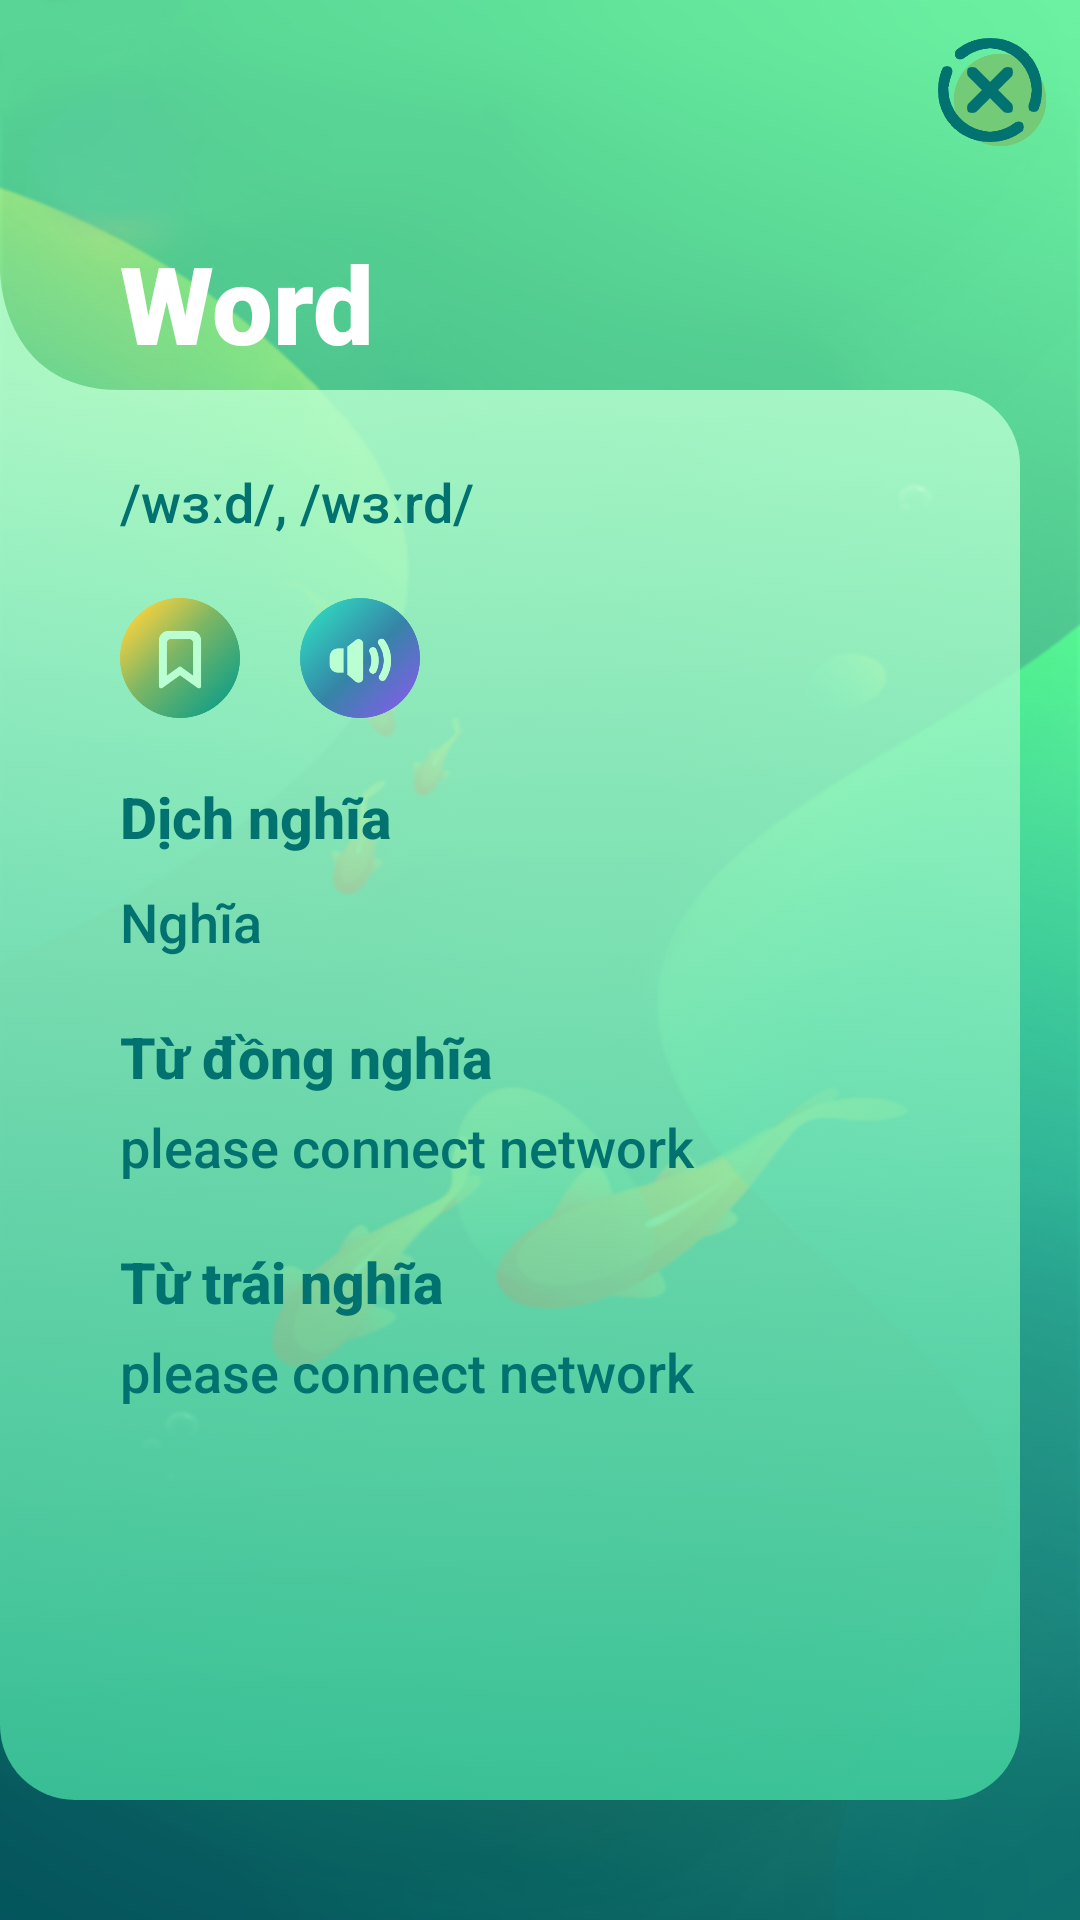

Icon bounding boxes for this 1080w x 1920h phone screenshot, format bbox=(x1, y1, x2, y2):
cancel: bbox=(938, 38, 1046, 146)
mark: bbox=(120, 598, 240, 718)
speaker: bbox=(300, 598, 420, 718)
